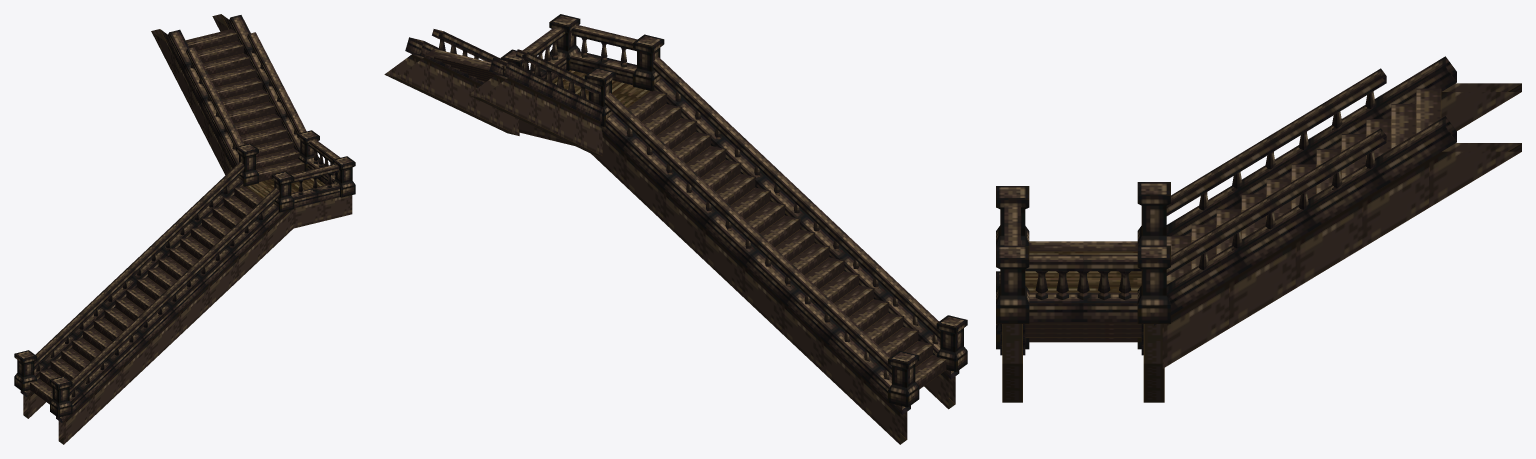
The model's file is EnvBdgMD_Sea_A_Indoor_House_F_Stairs.FBX.
3 renders of one model, left to right at view 1: azimuth 30°, elevation 25°; view 2: azimuth 150°, elevation 25°; view 3: azimuth 270°, elevation 25°, orthographic. The views are drawn at different scales.
Parts seen in each view (by area): view 1: EnvBdgMD_Sea_A_Indoor_House_F_Stairs; view 2: EnvBdgMD_Sea_A_Indoor_House_F_Stairs; view 3: EnvBdgMD_Sea_A_Indoor_House_F_Stairs.
Part boxes in pixels (left/top/right/bottom): EnvBdgMD_Sea_A_Indoor_House_F_Stairs: left=14, top=14, right=355, bottom=444; EnvBdgMD_Sea_A_Indoor_House_F_Stairs: left=384, top=14, right=967, bottom=444; EnvBdgMD_Sea_A_Indoor_House_F_Stairs: left=996, top=56, right=1521, bottom=402.
Bounding box in the file's own units: 825 × 739 × 632.
1 material, 1 textured.
